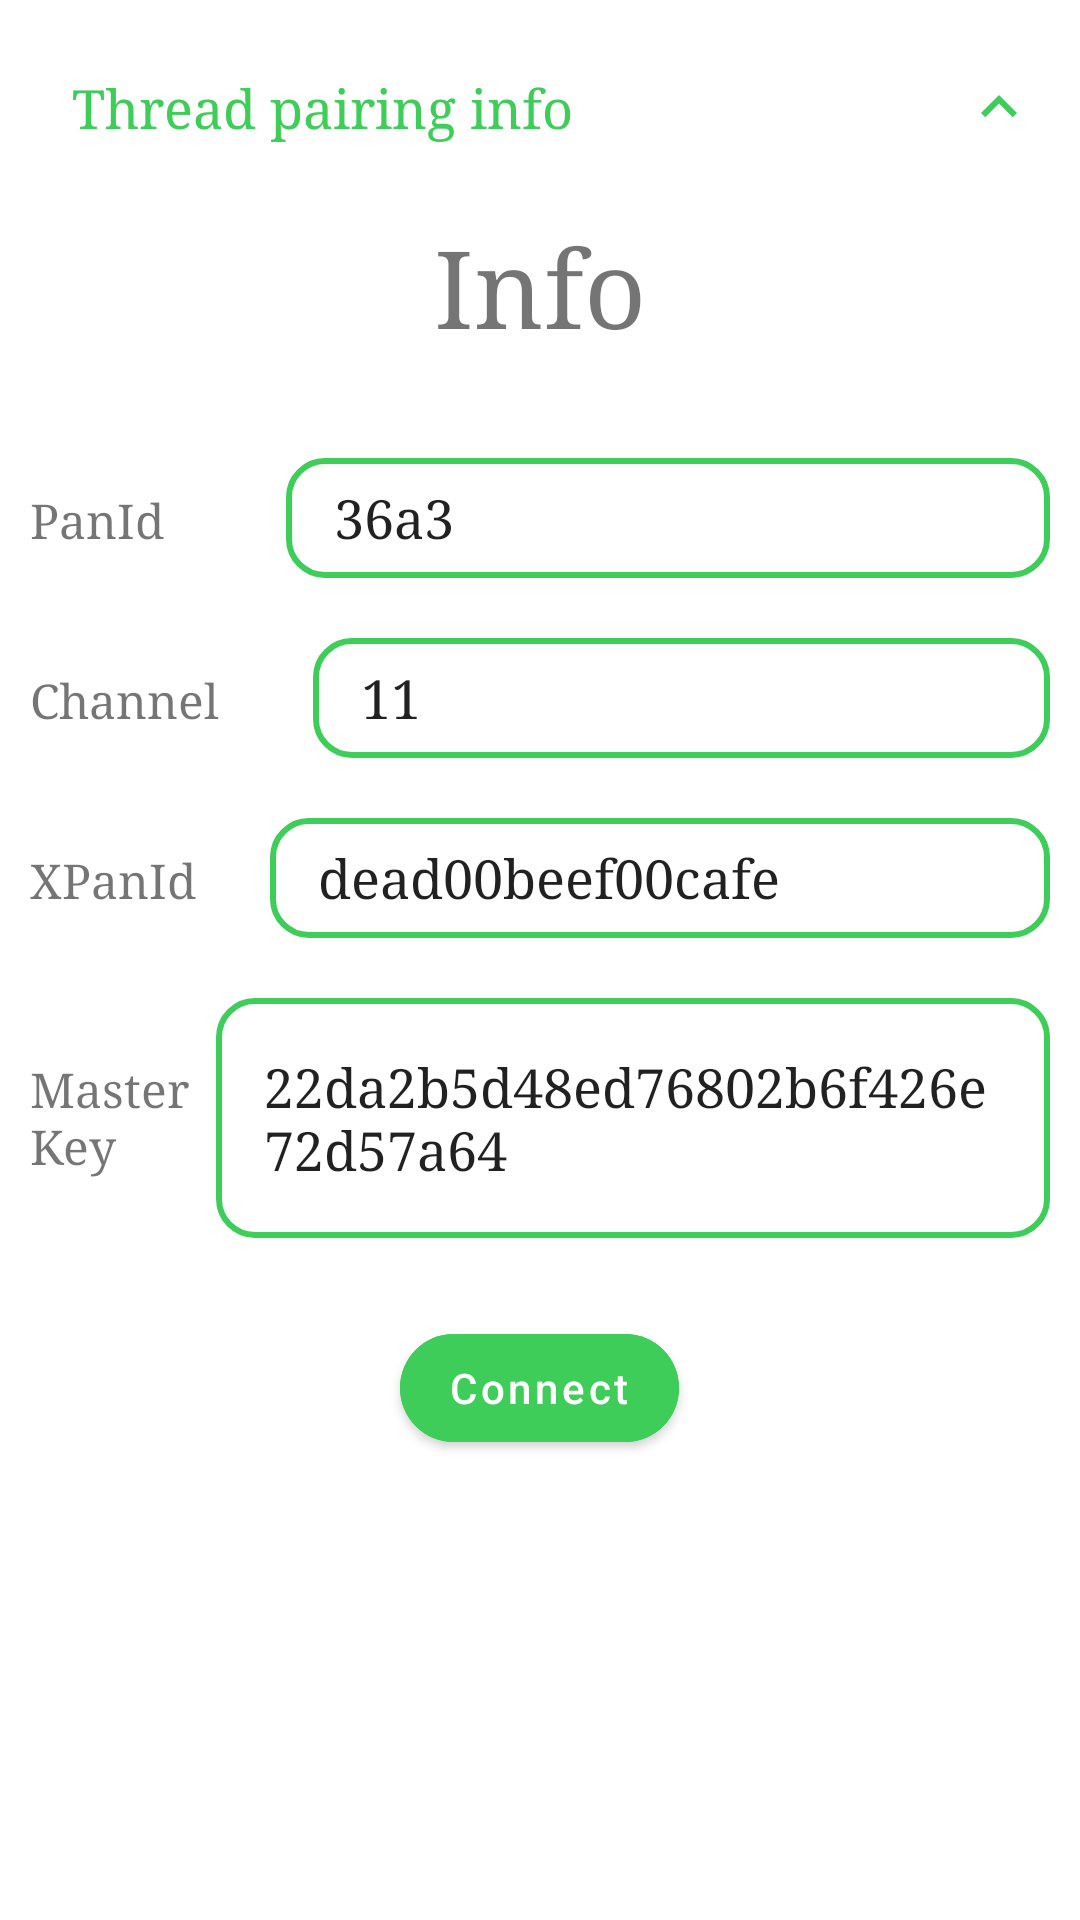

Named icons in this screenshot (1080 × 1920) and their centers, point (x, y):
keyboard arrow up: point (999, 106)
